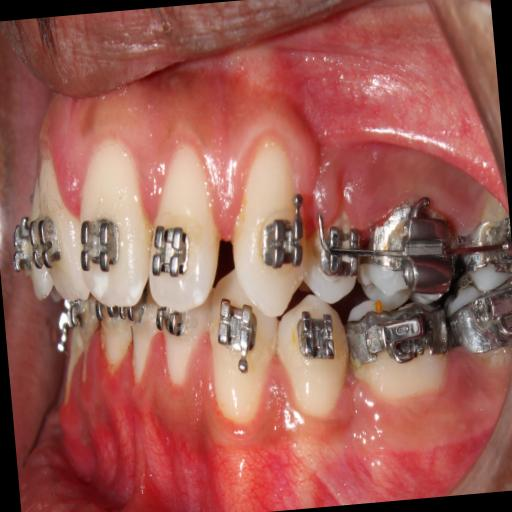correct_brace: (254, 210, 312, 284), (74, 203, 124, 276), (148, 217, 194, 286)
incorrect_brace: (138, 141, 226, 310)
